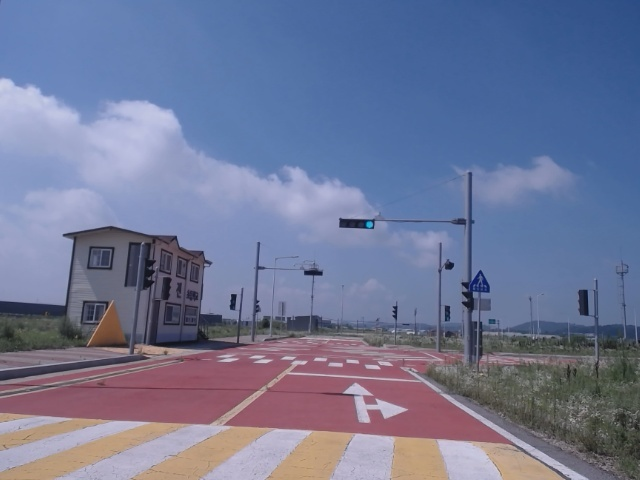straight_green_4: (340, 220, 375, 230)
